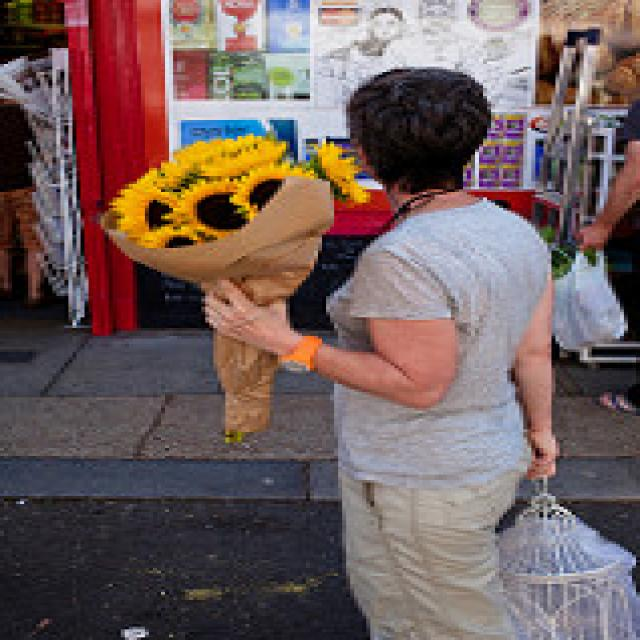sunflower: (105, 183, 186, 250), (172, 182, 255, 239), (229, 165, 322, 208)
